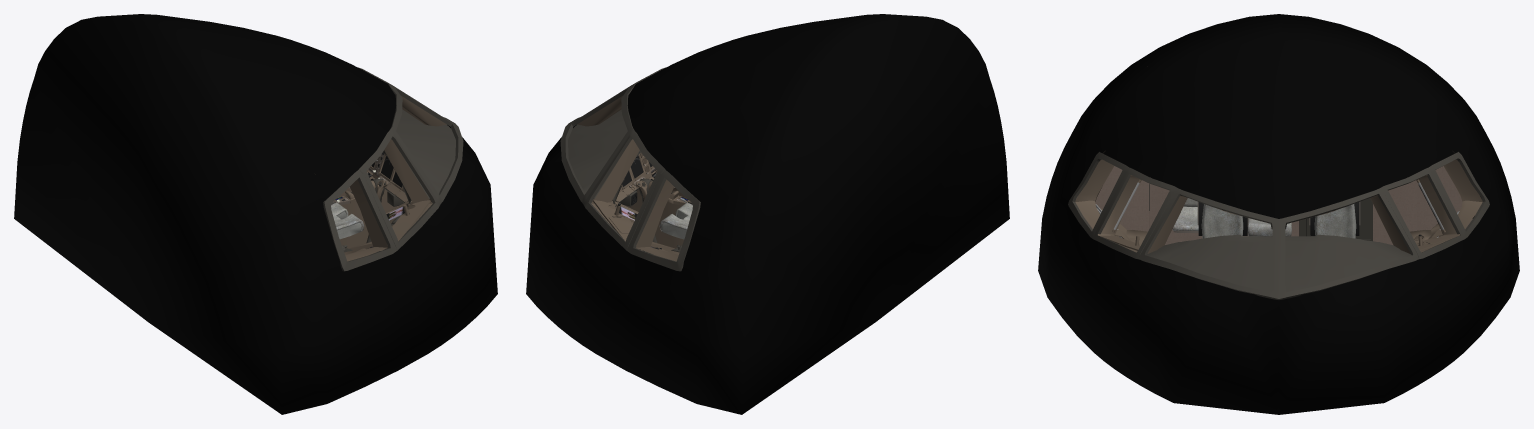
The model's file is cockpit-gltf1.gltf.
The picture shows the model from 3 angles, left to right: view 1: azimuth 30°, elevation 25°; view 2: azimuth 150°, elevation 25°; view 3: azimuth 270°, elevation 25°; orthographic projection. The views are drawn at different scales.
Parts seen in each view (by area): view 1: shell; view 2: shell; view 3: shell.
Part boxes in pixels (x1,y1,x2,y2): shell: (14,14,497,414); shell: (526,14,1009,414); shell: (1038,14,1519,414).
Size of the model in its own units: 3.16 by 2.74 by 4.57.
Materials: 17 (9 with a texture image).
